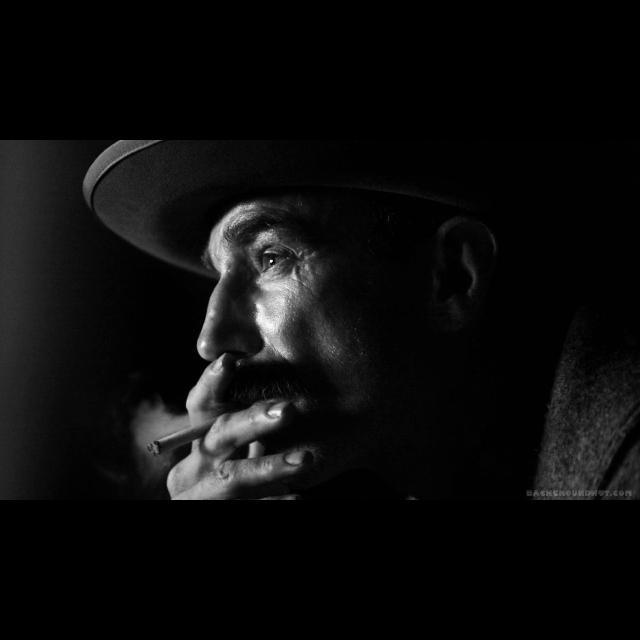rokok: (142, 412, 222, 452)
